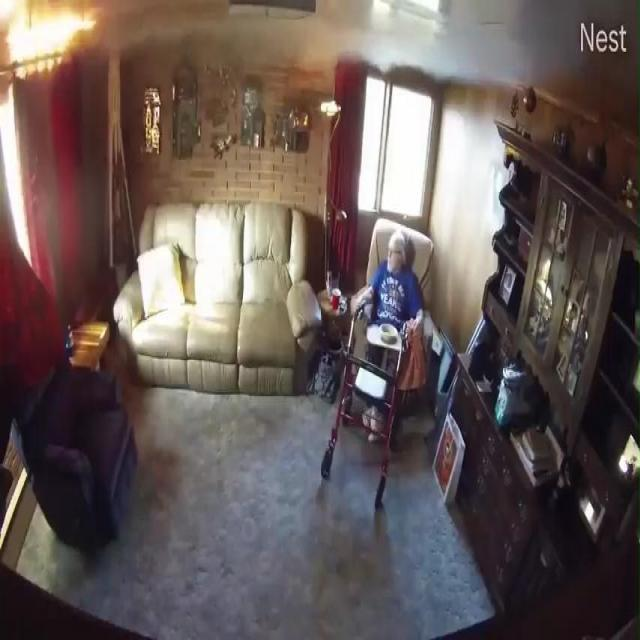fire: (0, 0, 117, 125)
